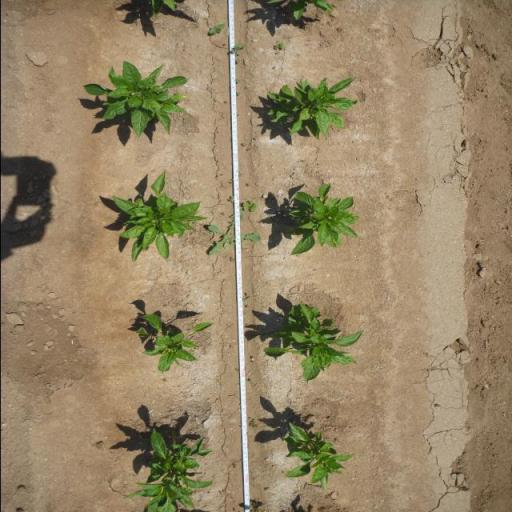plant: (78, 60, 192, 144), (108, 170, 206, 264), (260, 303, 364, 385), (124, 429, 217, 512), (262, 76, 363, 140), (282, 180, 361, 256), (278, 421, 357, 494), (132, 311, 216, 376), (286, 0, 334, 22)
weed: (206, 210, 262, 258), (224, 43, 246, 56), (208, 23, 225, 36), (244, 200, 258, 212), (248, 418, 258, 430), (272, 42, 284, 51), (244, 293, 250, 299), (228, 196, 234, 202), (240, 142, 246, 148), (234, 58, 240, 64), (229, 257, 235, 262), (234, 78, 240, 83), (245, 148, 252, 152), (235, 92, 242, 96), (248, 380, 252, 383), (245, 306, 249, 309), (245, 184, 250, 186), (242, 298, 244, 302)
